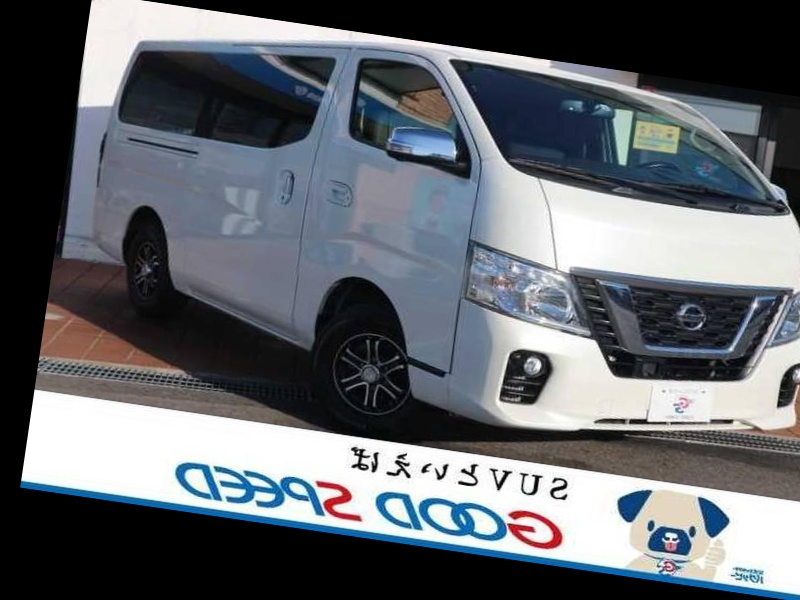van: (61, 5, 800, 465)
